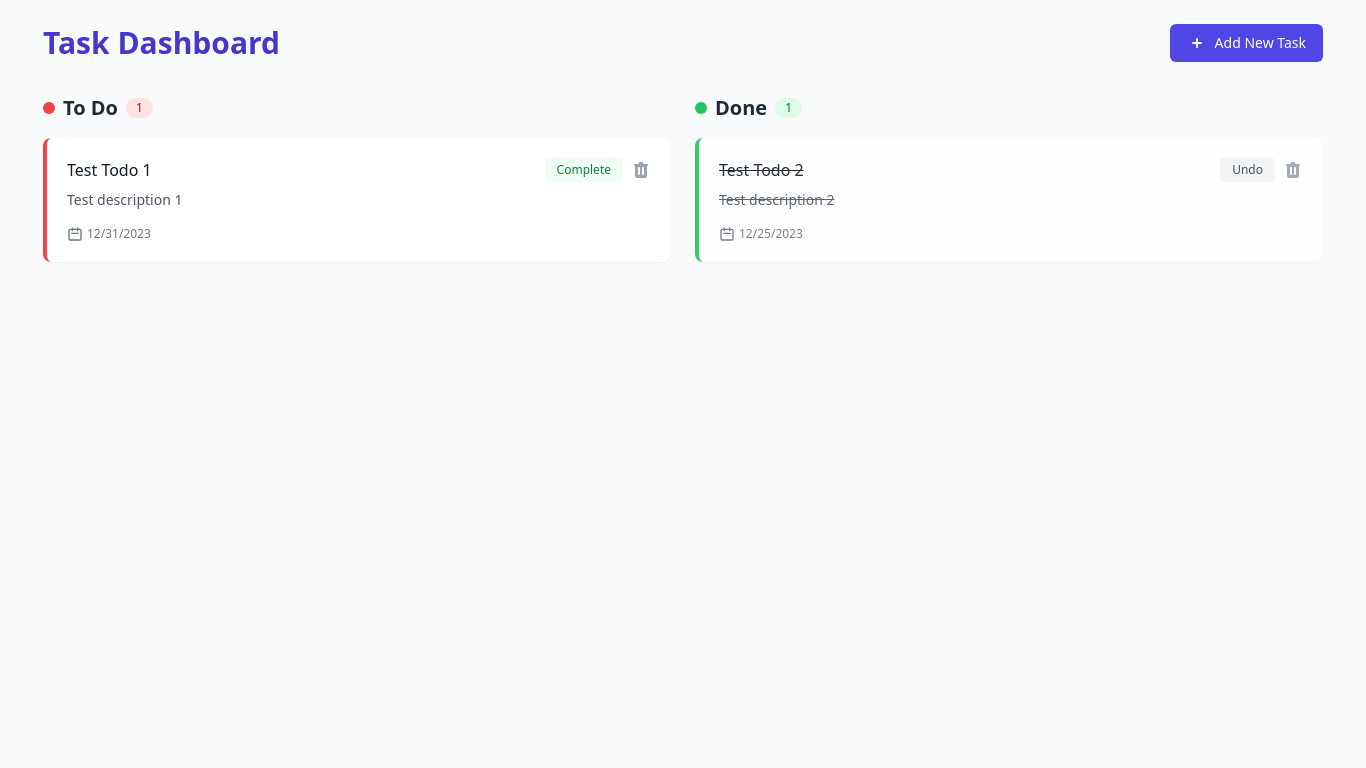
it: Todo App UI Visibility Tests › should show the Add Todo modal when button is clicked
# Click Add button
Click the button "Add New Task": (1247, 43) [1170, 24, 1323, 62]
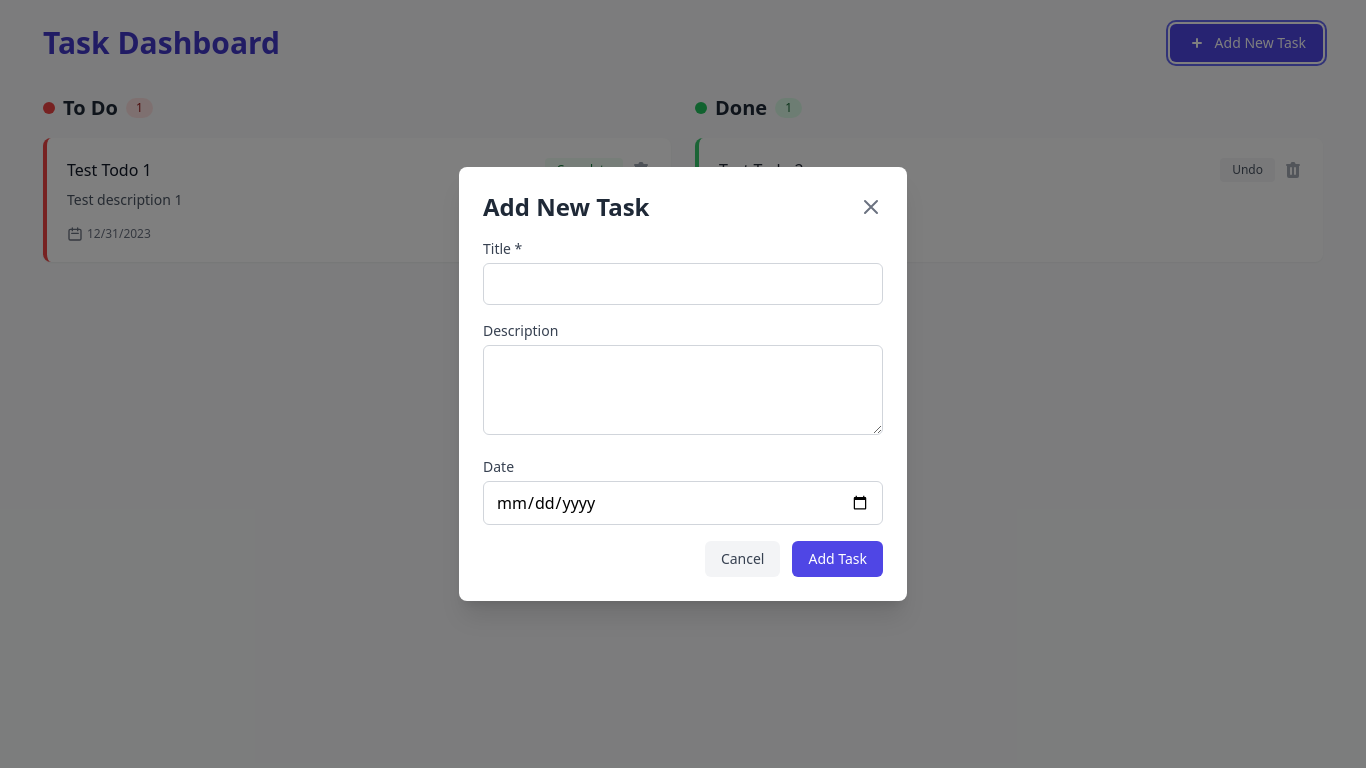
expect the element with class "fixed" is shown: met
expect the heading "Add New Task" is shown: met, box [483, 191, 650, 223]
expect the field named "title" is shown: met, box [483, 263, 883, 305]
